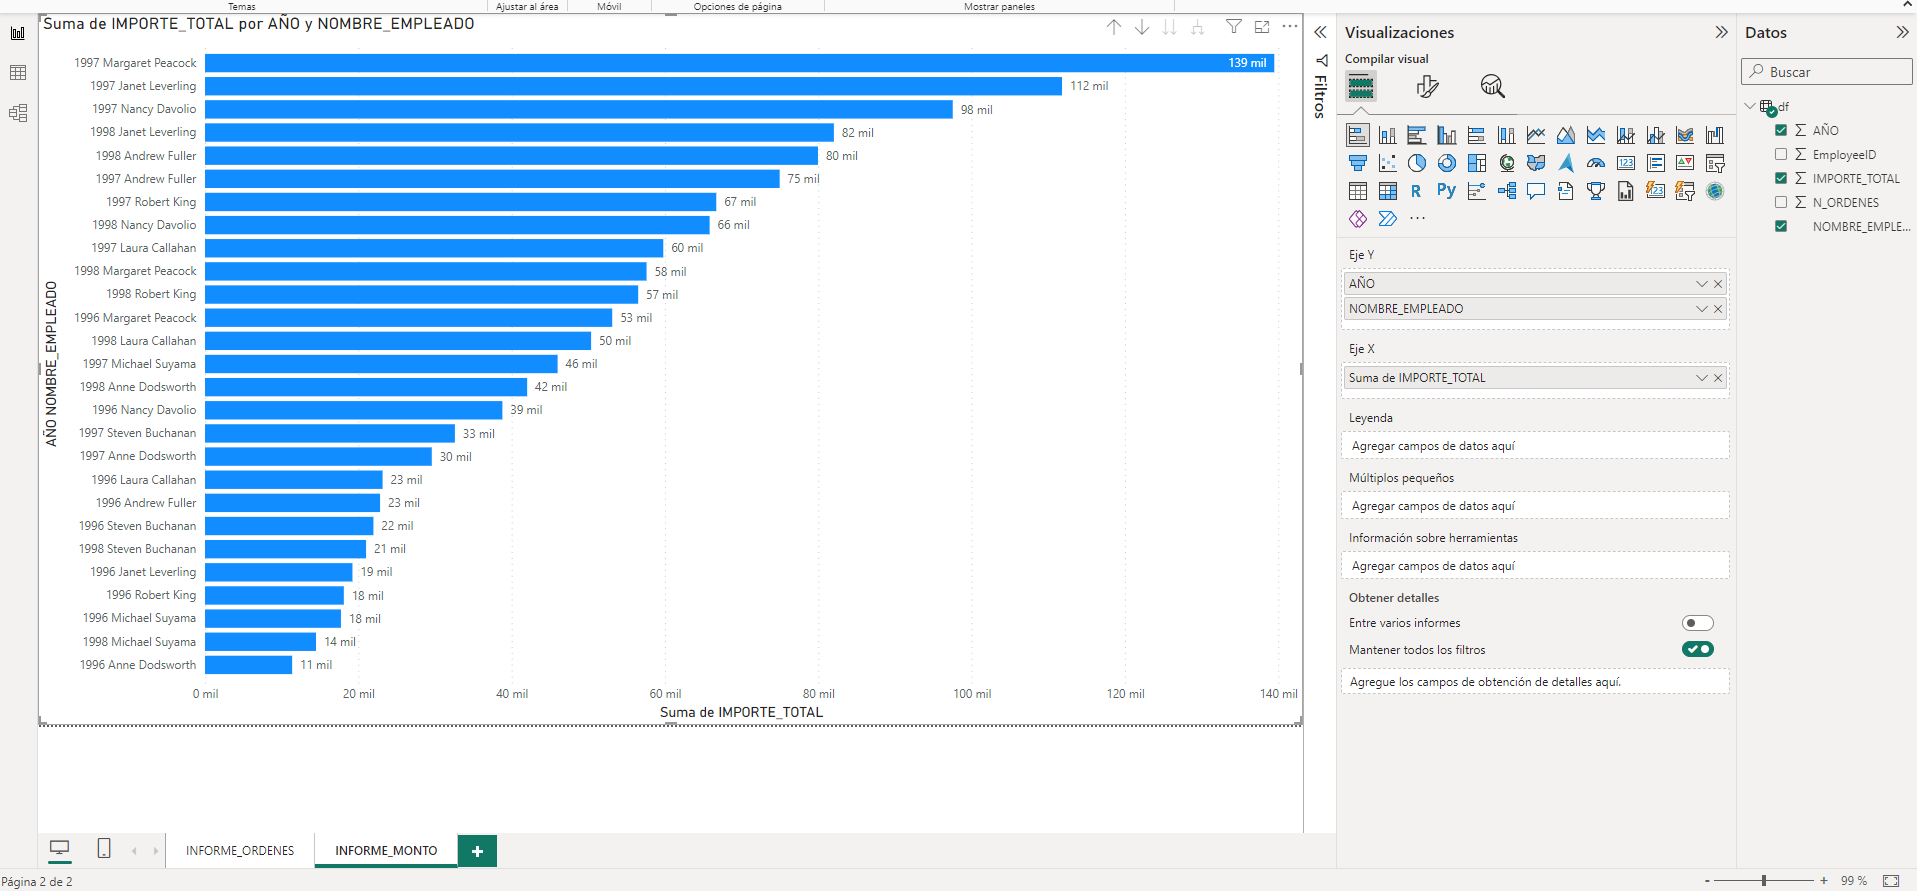

The page's visual inventory and layout, read from the dashboard file:
{"tool":"powerbi","page":{"name":"INFORME_MONTO","canvas":[1280,720],"ordinal":1},"visuals":[{"type":"barChart","fields":{"Category":["df.AÑO","df.NOMBRE_EMPLEADO"],"Y":["Sum(df.IMPORTE_TOTAL)"]},"box":[0,0,906.6,720.4],"z":0}]}

Visuals, with their boxes on the page's 1280x720 design canvas (x1, y1, x2, y2). These are canvas units, not pixel positions in the 1917x891 screenshot, which may show the page scaled, cropped or inside an application window:
barChart - df.AÑO x df.NOMBRE_EMPLEADO: left=0, top=0, right=907, bottom=720
